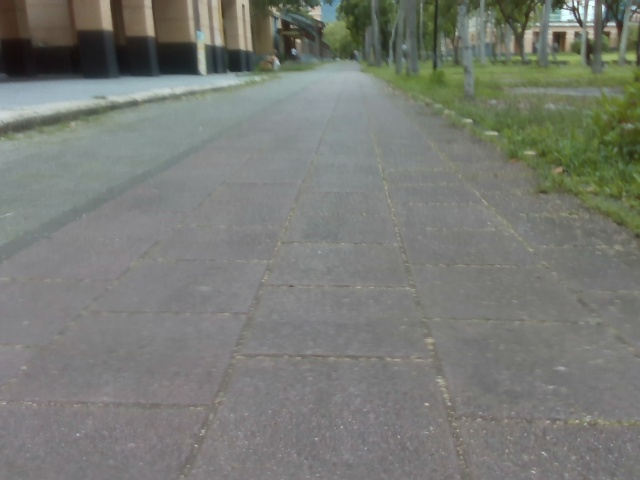grass: (244, 53, 639, 236), (262, 0, 639, 171)
road: (0, 64, 639, 479)
sidewalk: (0, 74, 247, 135)
